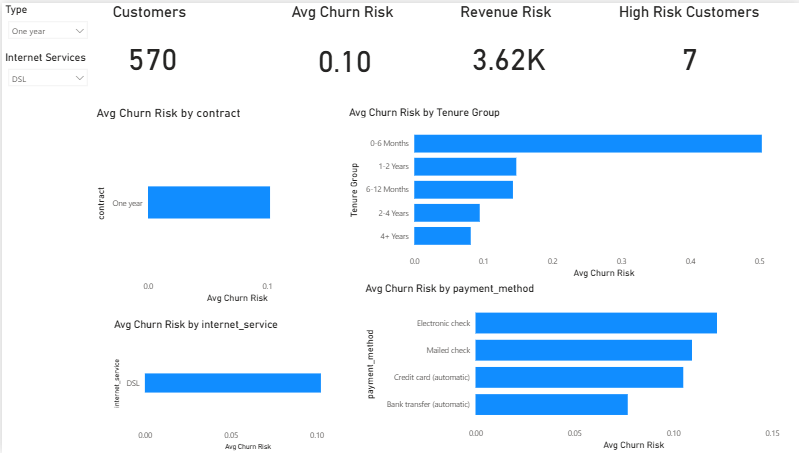

The page's visual inventory and layout, read from the dashboard file:
{"tool":"powerbi","page":{"name":"Executive Overview","canvas":[1280,720],"ordinal":0},"visuals":[{"type":"card","title":"Customers","fields":{"Values":["customer_risk_scores.Total Customers"]},"box":[172.9,0,137.1,142.9],"z":0},{"type":"card","title":"Revenue Risk","fields":{"Values":["customer_risk_scores.Revenue At Risk"]},"box":[728.3,0,166.7,143.3],"z":1000},{"type":"card","title":"High Risk Customers","fields":{"Values":["customer_risk_scores.High Risk Customers"]},"box":[981.7,0,236.7,143.3],"z":2000},{"type":"clusteredBarChart","fields":{"Y":["customer_risk_scores.Avg Churn Risk"],"Category":["customer_risk_scores.contract"]},"box":[146.7,163.3,386.7,321.7],"z":3000},{"type":"clusteredBarChart","fields":{"Category":["customer_risk_scores.payment_method"],"Y":["customer_risk_scores.Avg Churn Risk"]},"box":[575,445,705,275],"z":4000},{"type":"clusteredBarChart","fields":{"Category":["customer_risk_scores.internet_service"],"Y":["customer_risk_scores.Avg Churn Risk"]},"box":[173.3,503.3,401.7,216.7],"z":5000},{"type":"clusteredBarChart","fields":{"Category":["customer_risk_scores.Tenure Group"],"Y":["customer_risk_scores.Avg Churn Risk"]},"box":[550,163.3,730,281.7],"z":6000},{"type":"slicer","title":"Type","fields":{"Values":["customer_risk_scores.contract"]},"box":[0,0,147.1,85.7],"z":7000},{"type":"slicer","title":"Internet Services","fields":{"Values":["customer_risk_scores.internet_service"]},"box":[0,75.7,147.1,71.4],"z":8000},{"type":"card","title":"Avg Churn Risk","fields":{"Values":["customer_risk_scores.Avg Churn Risk"]},"box":[458.3,0,181.7,150],"z":9000}]}

Visuals, with their boxes in screenshot pixels (x1, y1, x2, y2), scaled from the page's 1280x720 canvas onto the 799x453 screenshot:
"Customers" card: l=108, t=0, r=194, b=90
"Revenue Risk" card: l=455, t=0, r=559, b=90
"High Risk Customers" card: l=613, t=0, r=761, b=90
clusteredBarChart - customer_risk_scores.Avg Churn Risk x customer_risk_scores.contract: l=92, t=103, r=333, b=305
clusteredBarChart - customer_risk_scores.payment_method x customer_risk_scores.Avg Churn Risk: l=359, t=280, r=798, b=452
clusteredBarChart - customer_risk_scores.internet_service x customer_risk_scores.Avg Churn Risk: l=108, t=317, r=359, b=452
clusteredBarChart - customer_risk_scores.Tenure Group x customer_risk_scores.Avg Churn Risk: l=343, t=103, r=798, b=280
"Type" slicer: l=0, t=0, r=92, b=54
"Internet Services" slicer: l=0, t=48, r=92, b=93
"Avg Churn Risk" card: l=286, t=0, r=400, b=94
